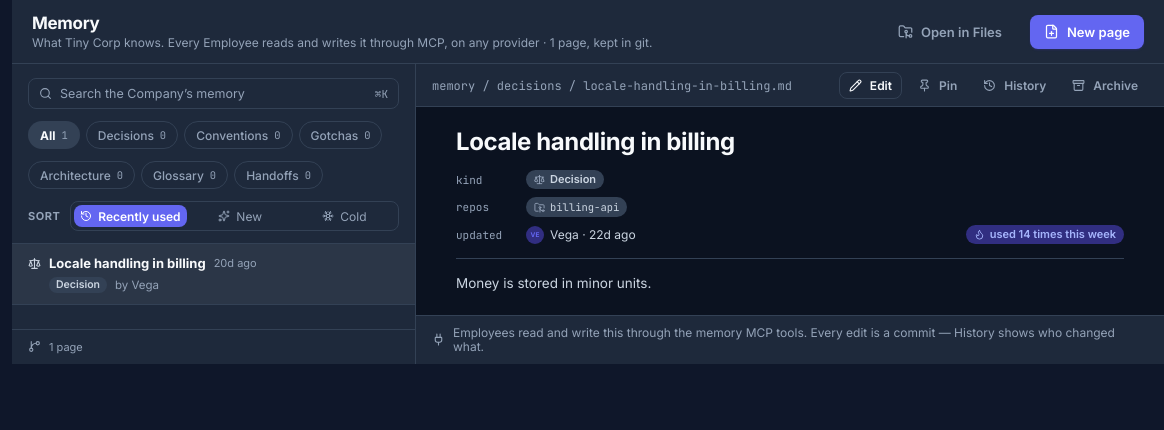
Test case: Memory, while a new page is being written › keeps the row marked while that page is the one being edited
Click the button "Edit" at (870, 86), box [839,72,902,99]
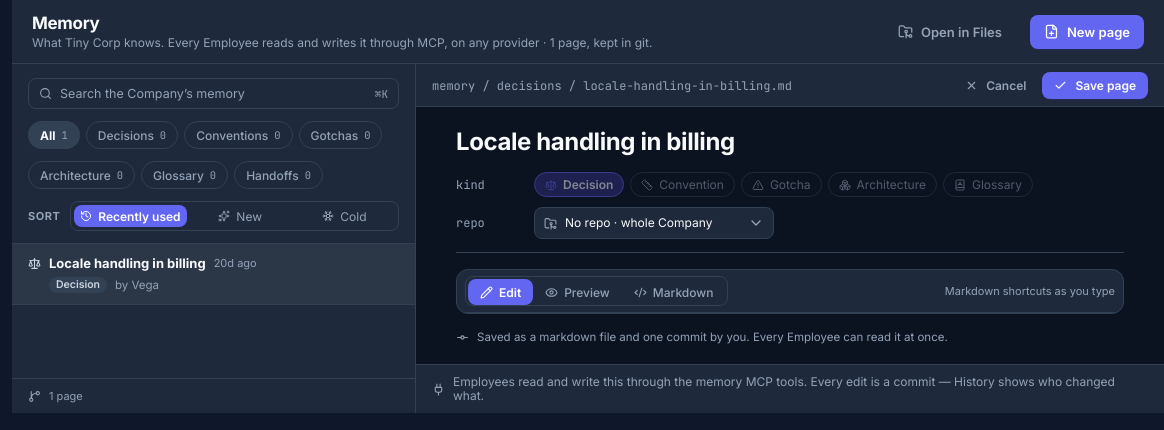
Now the form is shown, box [416,64,1163,413]
